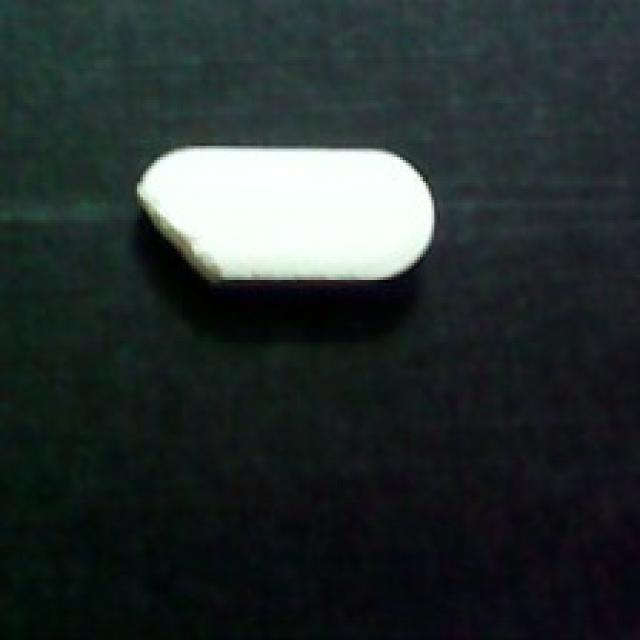defected: (126, 123, 440, 289)
